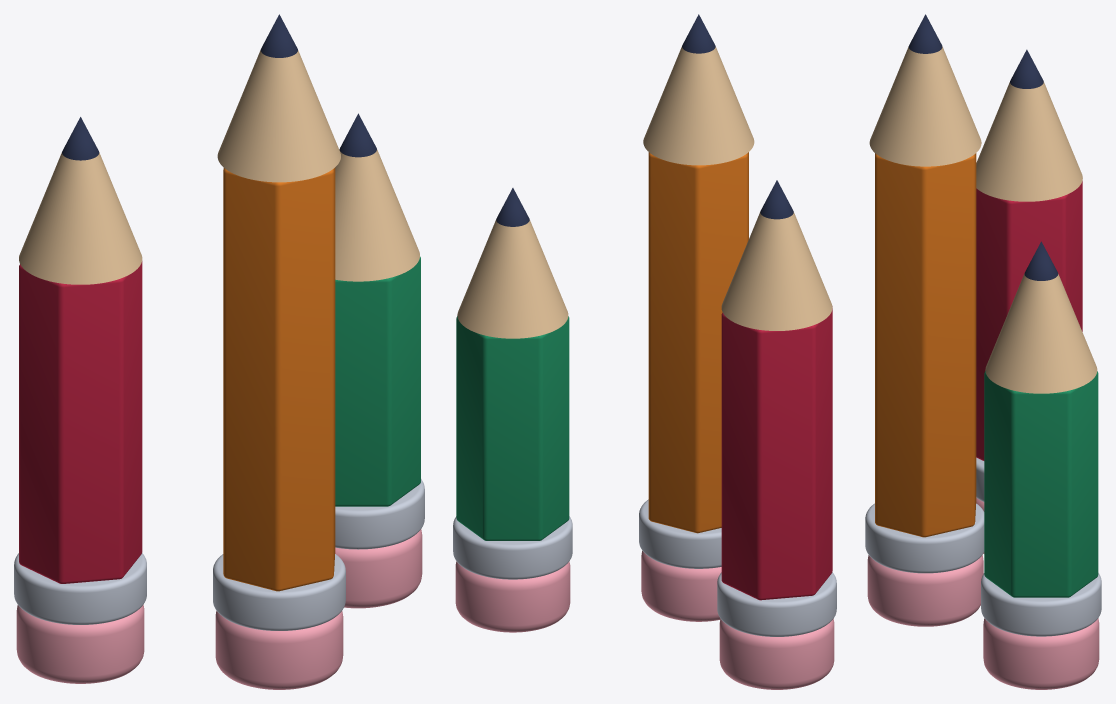
The model's file is level-middle_school.glb.
The picture shows the model from 3 angles, left to right: view 1: azimuth 30°, elevation 25°; view 2: azimuth 150°, elevation 25°; view 3: azimuth 270°, elevation 25°; orthographic projection. The views are drawn at different scales.
Parts seen in each view (by area): view 1: Cylinder.005, Cylinder.002, Cylinder.008, Cone, Cone.002, Cone.004, Cylinder, Cylinder.003, Cylinder.004, Cylinder.001, Cylinder.006, Cylinder.007 (+3 smaller); view 2: Cylinder.005, Cylinder.002, Cylinder.008, Cone.002, Cone.004, Cone, Cylinder.006, Cylinder, Cylinder.001, Cylinder.007, Cylinder.003, Cylinder.004 (+3 smaller); view 3: Cylinder.005, Cylinder.008, Cylinder.002, Cone.002, Cone.004, Cone, Cylinder.006, Cylinder.003, Cylinder.004, Cylinder.007, Cone.003, Cone.005 (+1 smaller).
Part boxes in pixels (x1,y1,x2,y2): Cylinder.005: [223, 167, 335, 591]; Cylinder.002: [19, 261, 142, 583]; Cylinder.008: [335, 256, 420, 506]; Cone: [19, 152, 142, 284]; Cone.002: [217, 50, 340, 182]; Cone.004: [335, 149, 419, 281]; Cylinder: [16, 604, 144, 683]; Cylinder.003: [215, 611, 343, 689]; Cylinder.004: [213, 554, 345, 630]; Cylinder.001: [14, 553, 146, 624]; Cylinder.006: [335, 529, 422, 608]; Cylinder.007: [335, 479, 424, 549]; Cylinder.005: [648, 152, 748, 533]; Cylinder.002: [721, 306, 832, 600]; Cylinder.008: [456, 316, 569, 540]; Cone.002: [643, 47, 754, 165]; Cone.004: [457, 219, 568, 338]; Cone: [721, 212, 832, 330]; Cylinder.006: [455, 561, 570, 632]; Cylinder: [719, 619, 834, 689]; Cylinder.001: [717, 572, 836, 636]; Cylinder.007: [453, 516, 572, 579]; Cylinder.003: [641, 551, 721, 621]; Cylinder.004: [639, 499, 721, 568]; Cylinder.005: [875, 153, 976, 537]; Cylinder.008: [984, 371, 1098, 597]; Cylinder.002: [976, 181, 1082, 460]; Cone.002: [869, 46, 981, 166]; Cone.004: [985, 273, 1097, 393]; Cone: [976, 81, 1082, 201]; Cylinder.006: [983, 618, 1099, 689]; Cylinder.003: [867, 555, 983, 626]; Cylinder.004: [865, 503, 984, 573]; Cylinder.007: [981, 573, 1101, 636]; Cone.003: [908, 14, 942, 53]; Cone.005: [1024, 241, 1058, 280].
Bounding box in the file's own units: 1.74 × 2.71 × 0.98.
